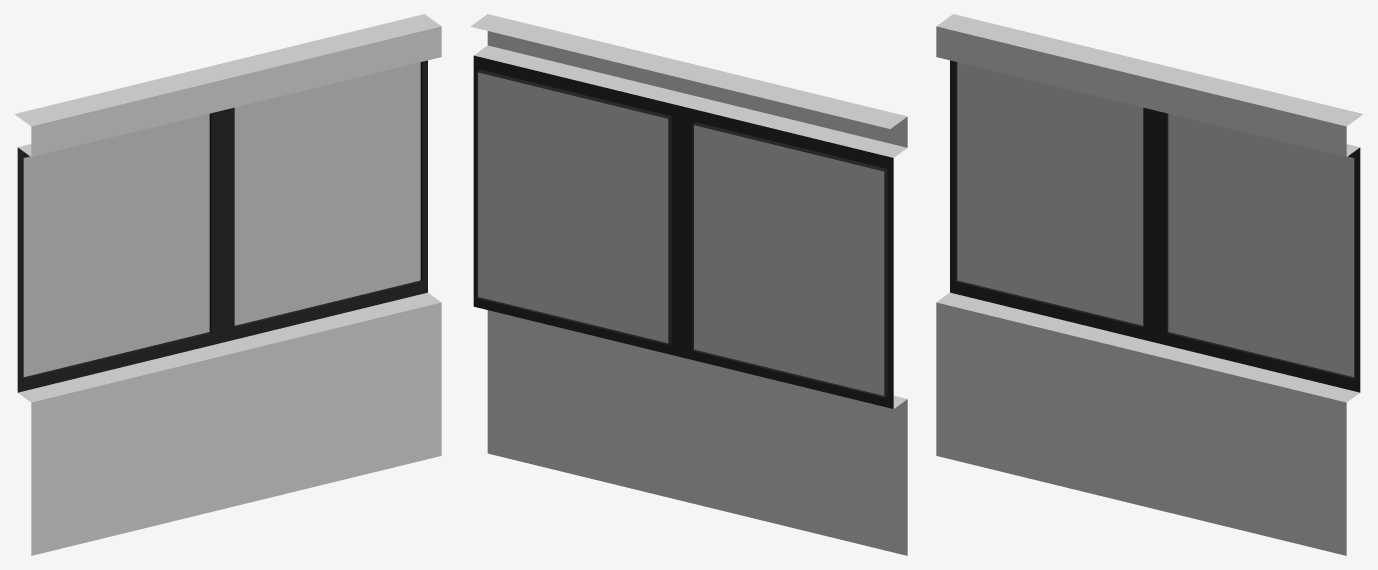
Rendered from M_WallFWindow200White80.fbx.
3 views of the same model, side by side, from view 1: azimuth 30°, elevation 25°; view 2: azimuth 150°, elevation 25°; view 3: azimuth 330°, elevation 25° (orthographic). The views are drawn at different scales.
Visible parts, largest first — view 1: M_WallFWindow200White80; view 2: M_WallFWindow200White80; view 3: M_WallFWindow200White80.
Part boxes in pixels (x1=…): M_WallFWindow200White80: x1=14, y1=14, x2=441, y2=555; M_WallFWindow200White80: x1=471, y1=14, x2=907, y2=555; M_WallFWindow200White80: x1=936, y1=14, x2=1363, y2=555.
Bounding box in the file's own units: 350 × 25 × 350.
